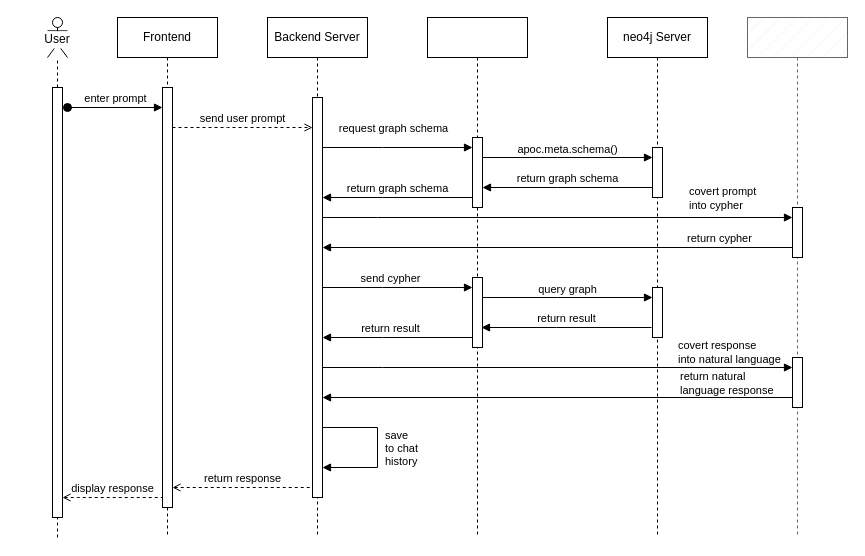
Some shapes in this 865 by 556 pixel diagram are drawn without their labels. Here are the shapes that lost their labels. From the top down, the box of each, then its label:
(426, 16, 528, 538): MCP Server
(746, 16, 848, 538): Open AI
